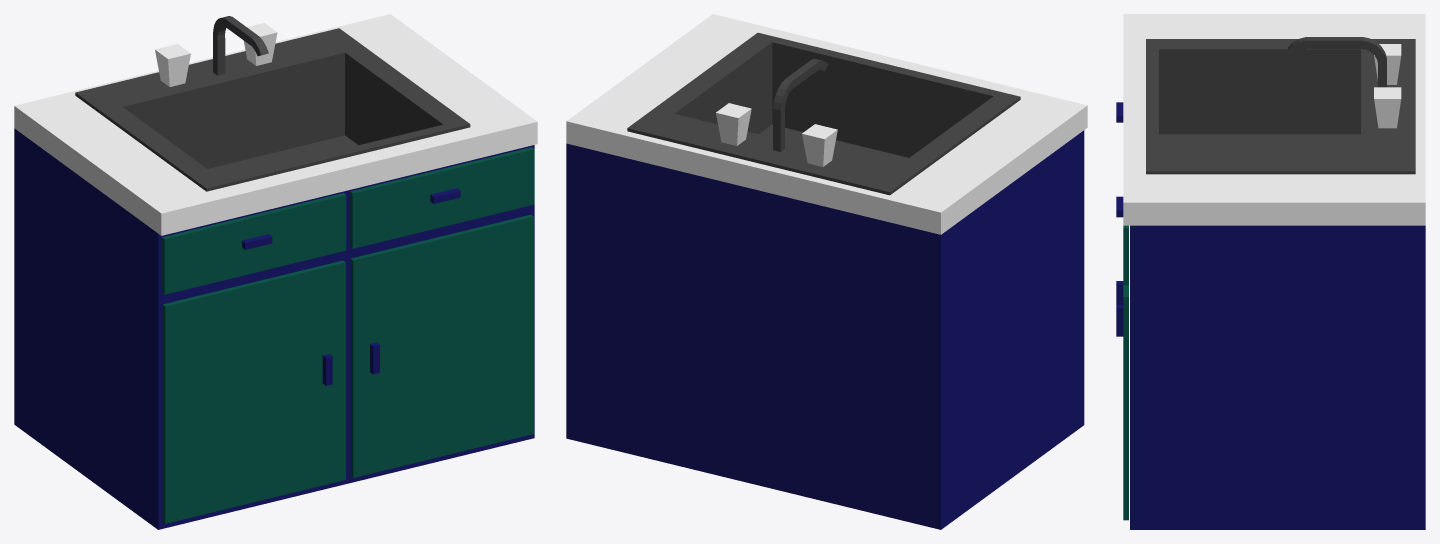
The model's file is Cupboards_sink.FBX.
The picture shows the model from 3 angles, left to right: view 1: azimuth 30°, elevation 25°; view 2: azimuth 150°, elevation 25°; view 3: azimuth 270°, elevation 25°; orthographic projection. The views are drawn at different scales.
Parts seen in each view (by area): view 1: Kitchen_Cupboard_SinkSection01, Kitchen_Cupboard_SinkSection_Door01, Kitchen_Cupboard_SinkSection_Door02, Kitchen_Cupboard_SinkSection_Sink01, Kitchen_Cupboard_SinkSection_Surface01, Kitchen_Cupboard_SinkSection_Drawer01, Kitchen_Cupboard_SinkSection_Drawer02, Kitchen_Cupboard_SinkSection_Faucet01, Kitchen_Cupboard_SinkSection_Handle01, Kitchen_Cupboard_SinkSection_Handle02; view 2: Kitchen_Cupboard_SinkSection01, Kitchen_Cupboard_SinkSection_Sink01, Kitchen_Cupboard_SinkSection_Surface01, Kitchen_Cupboard_SinkSection_Faucet01, Kitchen_Cupboard_SinkSection_Handle02, Kitchen_Cupboard_SinkSection_Handle01; view 3: Kitchen_Cupboard_SinkSection01, Kitchen_Cupboard_SinkSection_Sink01, Kitchen_Cupboard_SinkSection_Surface01, Kitchen_Cupboard_SinkSection_Door02, Kitchen_Cupboard_SinkSection_Faucet01, Kitchen_Cupboard_SinkSection_Handle02, Kitchen_Cupboard_SinkSection_Handle01, Kitchen_Cupboard_SinkSection_Drawer02.
Boxes of the visible parts, x1=… form: Kitchen_Cupboard_SinkSection01: x1=14, y1=128, x2=534, y2=529; Kitchen_Cupboard_SinkSection_Door01: x1=162, y1=260, x2=345, y2=523; Kitchen_Cupboard_SinkSection_Door02: x1=350, y1=214, x2=533, y2=477; Kitchen_Cupboard_SinkSection_Sink01: x1=75, y1=28, x2=470, y2=191; Kitchen_Cupboard_SinkSection_Surface01: x1=14, y1=14, x2=537, y2=235; Kitchen_Cupboard_SinkSection_Drawer01: x1=162, y1=193, x2=346, y2=294; Kitchen_Cupboard_SinkSection_Drawer02: x1=350, y1=147, x2=534, y2=248; Kitchen_Cupboard_SinkSection_Faucet01: x1=213, y1=16, x2=268, y2=75; Kitchen_Cupboard_SinkSection_Handle01: x1=155, y1=44, x2=190, y2=86; Kitchen_Cupboard_SinkSection_Handle02: x1=244, y1=23, x2=277, y2=65; Kitchen_Cupboard_SinkSection01: x1=566, y1=130, x2=1084, y2=529; Kitchen_Cupboard_SinkSection_Sink01: x1=627, y1=32, x2=1020, y2=195; Kitchen_Cupboard_SinkSection_Surface01: x1=566, y1=14, x2=1087, y2=234; Kitchen_Cupboard_SinkSection_Faucet01: x1=773, y1=59, x2=828, y2=151; Kitchen_Cupboard_SinkSection_Handle02: x1=716, y1=103, x2=751, y2=145; Kitchen_Cupboard_SinkSection_Handle01: x1=802, y1=124, x2=837, y2=166; Kitchen_Cupboard_SinkSection01: x1=1130, y1=225, x2=1425, y2=529; Kitchen_Cupboard_SinkSection_Sink01: x1=1146, y1=39, x2=1415, y2=174; Kitchen_Cupboard_SinkSection_Surface01: x1=1123, y1=14, x2=1425, y2=225; Kitchen_Cupboard_SinkSection_Door02: x1=1116, y1=285, x2=1128, y2=520; Kitchen_Cupboard_SinkSection_Faucet01: x1=1288, y1=37, x2=1386, y2=87; Kitchen_Cupboard_SinkSection_Handle02: x1=1374, y1=87, x2=1401, y2=128; Kitchen_Cupboard_SinkSection_Handle01: x1=1374, y1=44, x2=1401, y2=84; Kitchen_Cupboard_SinkSection_Drawer02: x1=1116, y1=196, x2=1128, y2=285.
Size of the model in its own units: 201 by 197 by 140.
